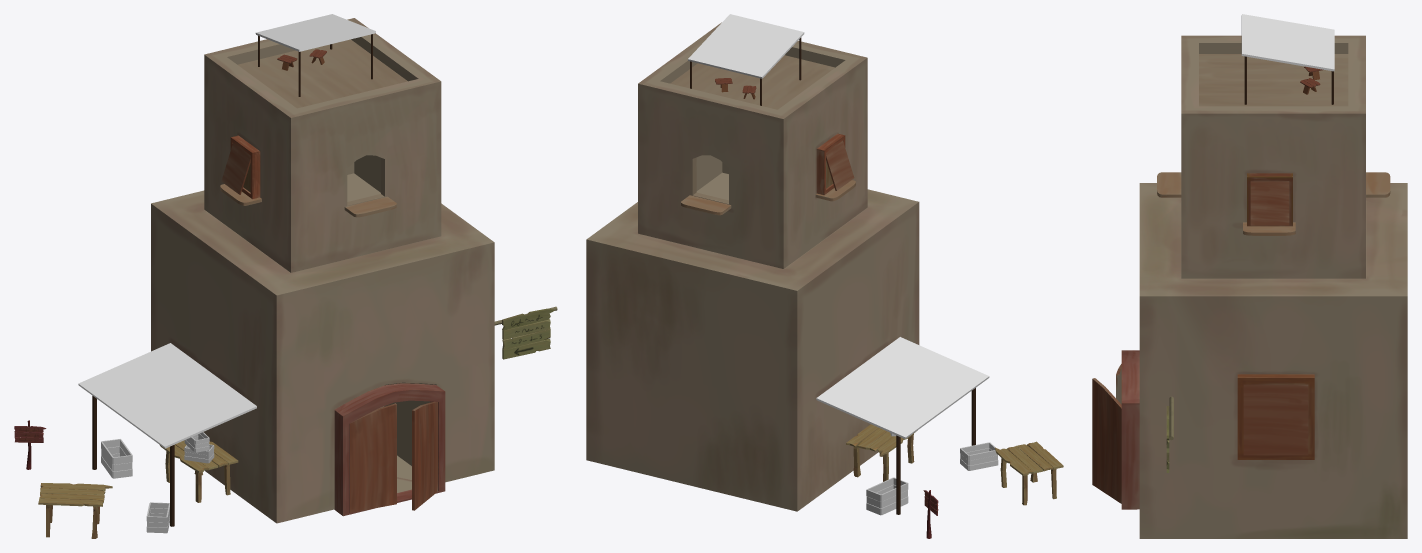
The picture shows the model from 3 angles, left to right: view 1: azimuth 30°, elevation 25°; view 2: azimuth 150°, elevation 25°; view 3: azimuth 270°, elevation 25°; orthographic projection. The views are drawn at different scales.
Parts seen in each view (by area): view 1: bına, tente1, tente2, tabela duvar, msa, masa, kasa.001, cubuklar, kasa, yer tabelası; view 2: bına, tente1, tente2, msa, masa, kasa.001, kasa, cubuklar; view 3: bına, tente2, tabela duvar.
Part boxes in pixels (left/top/right/bottom): bına: left=151, top=18, right=494, bottom=523; tente1: left=78, top=343, right=256, bottom=448; tente2: left=255, top=14, right=375, bottom=51; tabela duvar: left=494, top=306, right=557, bottom=359; msa: left=38, top=483, right=112, bottom=538; masa: left=160, top=440, right=238, bottom=502; kasa.001: left=101, top=439, right=132, bottom=478; cubuklar: left=92, top=396, right=174, bottom=526; kasa: left=146, top=502, right=169, bottom=533; yer tabelası: left=14, top=420, right=46, bottom=469; bına: left=586, top=22, right=919, bottom=511; tente1: left=816, top=337, right=989, bottom=439; tente2: left=688, top=14, right=804, bottom=78; msa: left=995, top=441, right=1063, bottom=505; masa: left=846, top=424, right=917, bottom=481; kasa.001: left=866, top=477, right=908, bottom=515; kasa: left=960, top=442, right=998, bottom=470; cubuklar: left=896, top=388, right=975, bottom=514; bına: left=1092, top=35, right=1407, bottom=538; tente2: left=1241, top=14, right=1334, bottom=71; tabela duvar: left=1166, top=396, right=1173, bottom=472.
Size of the model in its own units: 2639 by 2181 by 1385.
